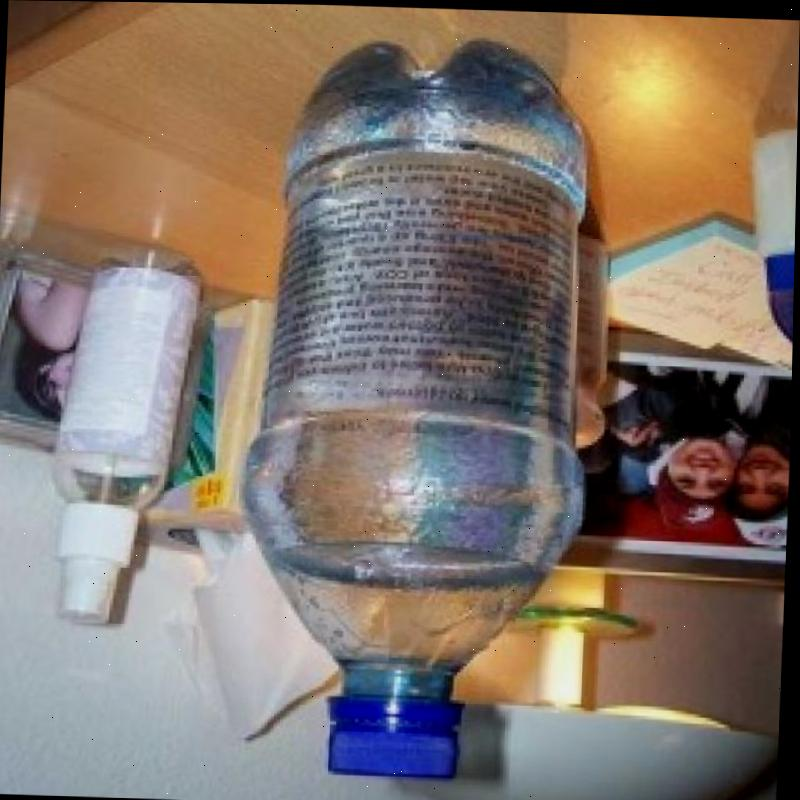botella: (236, 33, 606, 788)
